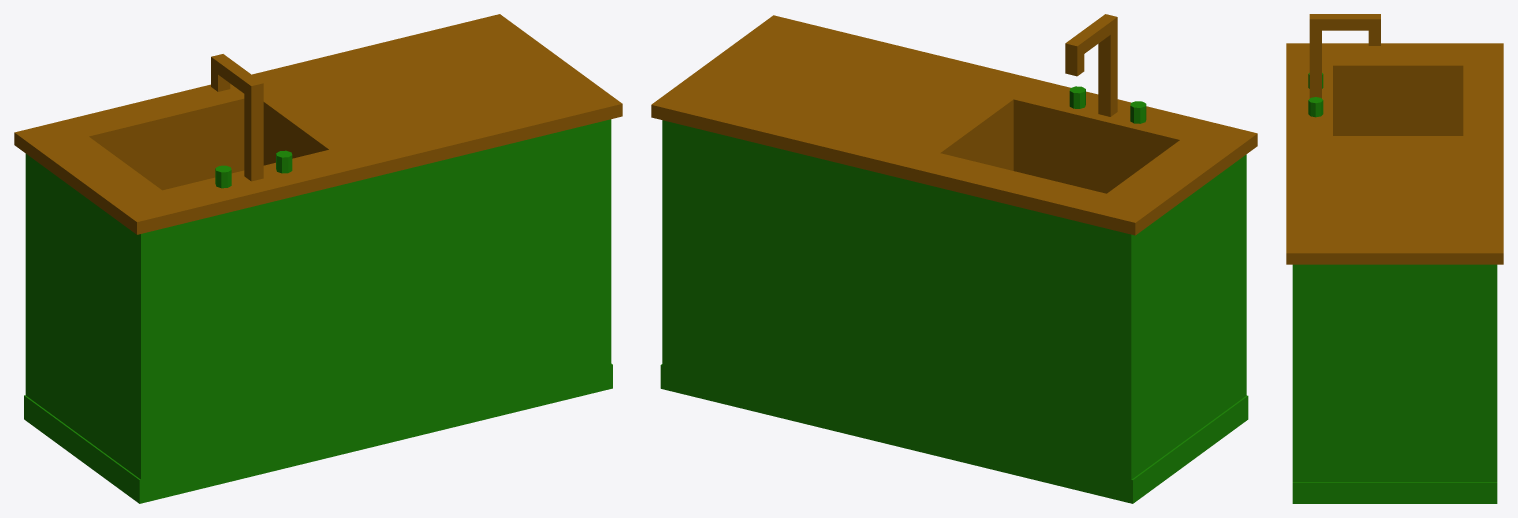
Rendered from SM_LSP_Sink.fbx.
3 views of the same model, side by side, from view 1: azimuth 30°, elevation 25°; view 2: azimuth 150°, elevation 25°; view 3: azimuth 270°, elevation 25° (orthographic). The views are drawn at different scales.
Visible parts, largest first — view 1: SM_LSP_Sink; view 2: SM_LSP_Sink; view 3: SM_LSP_Sink.
Part boxes in pixels (box(x1,y1,x2,y2)): SM_LSP_Sink: box(14, 14, 622, 503); SM_LSP_Sink: box(651, 14, 1257, 503); SM_LSP_Sink: box(1286, 14, 1503, 503).
Size of what is drawn, in the model's own units: 160 by 70 by 120.
